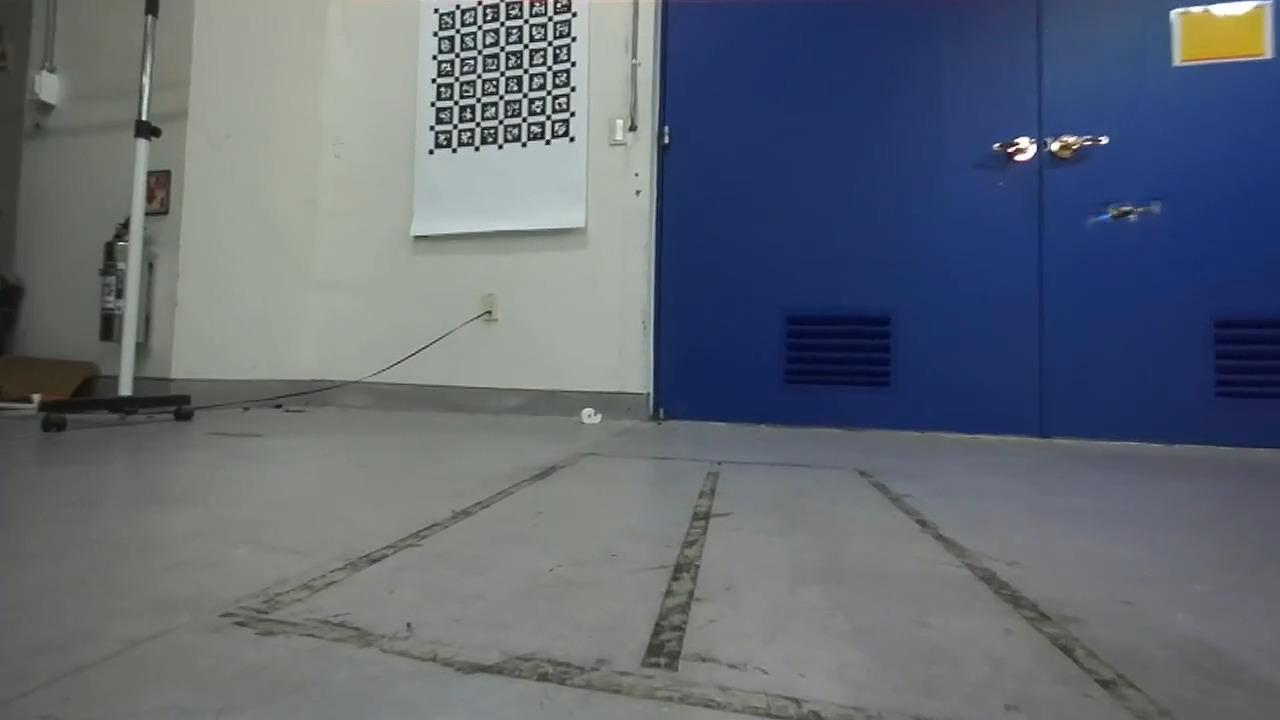crazyflie: (1079, 197, 1162, 233)
